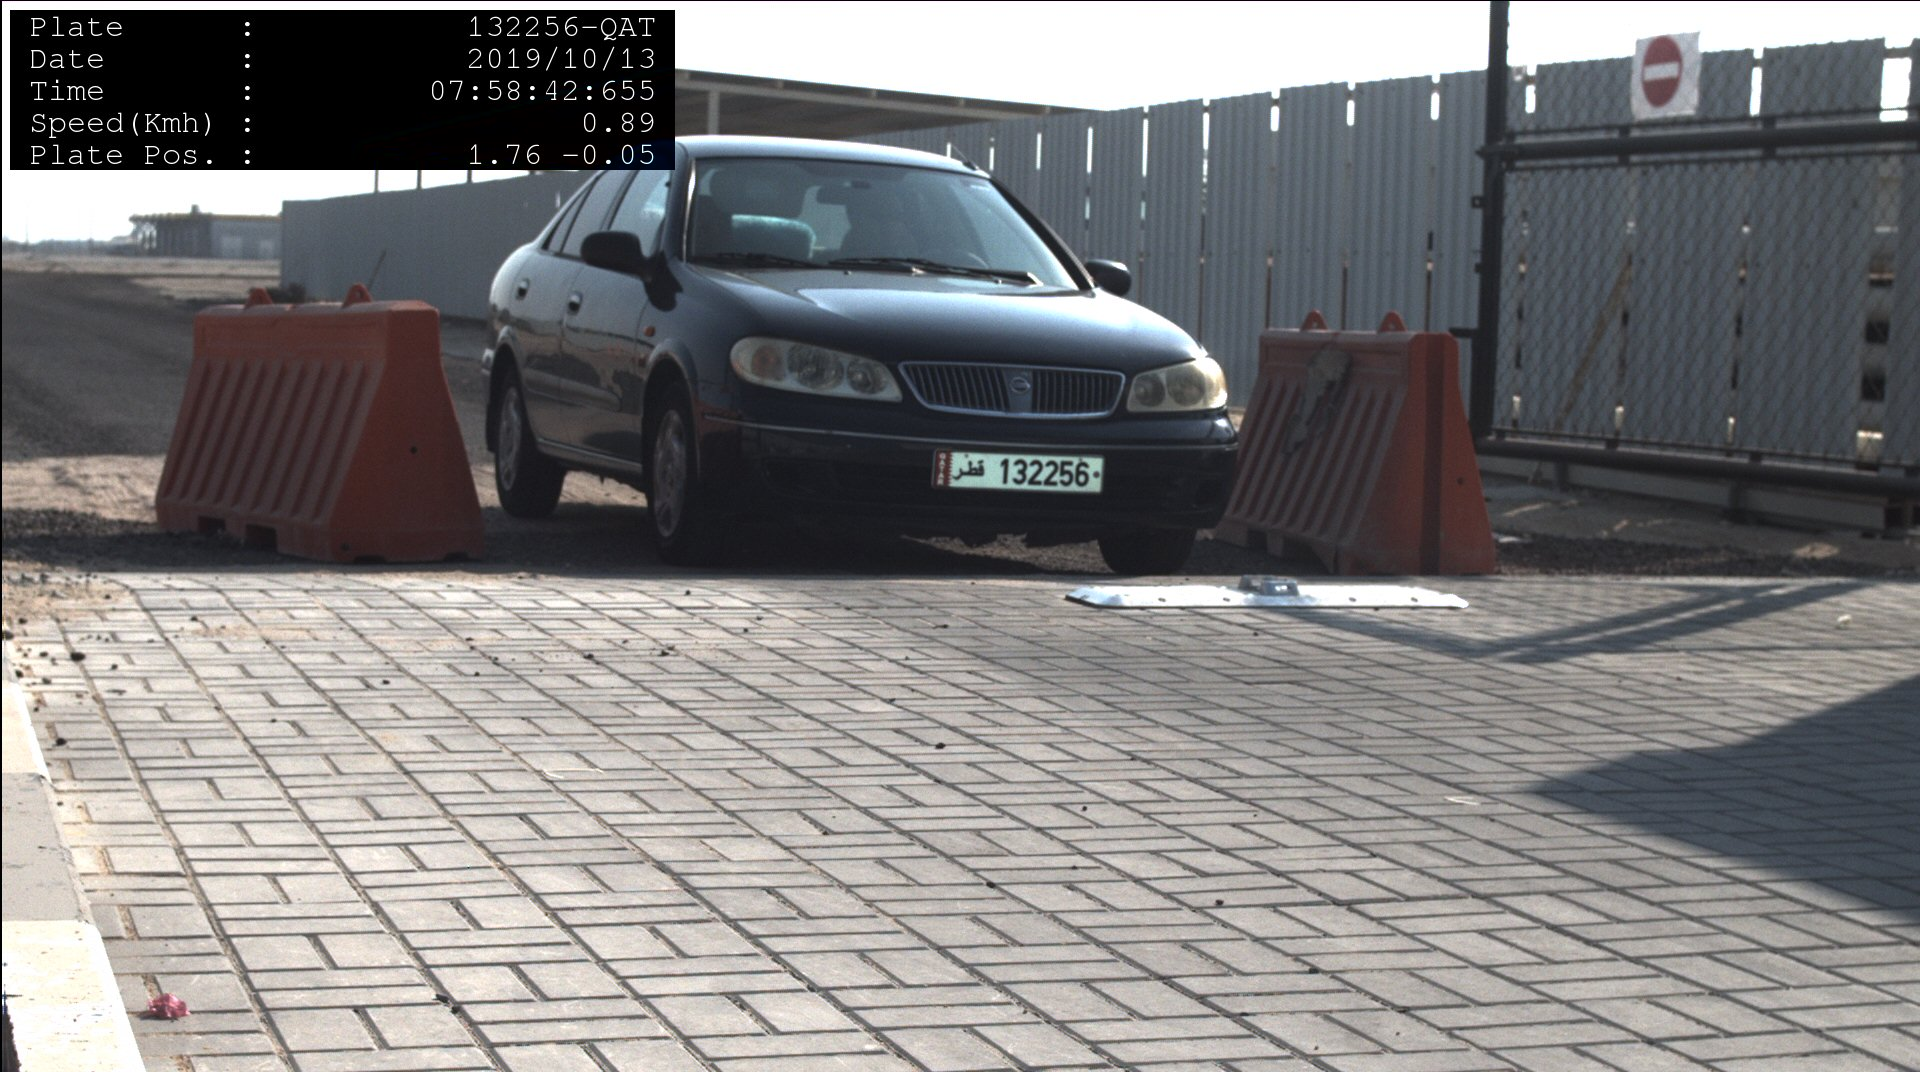License Plate: (936, 451, 1104, 495)
